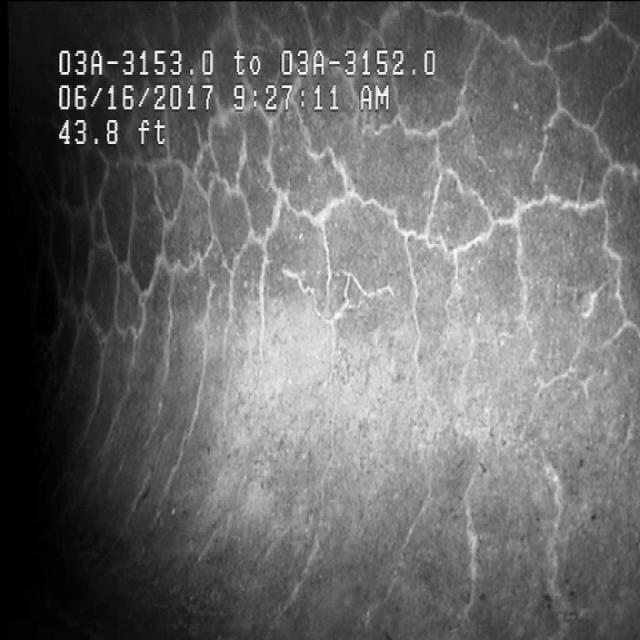Crack: (225, 148, 594, 540), (68, 172, 208, 474)
